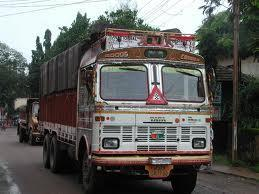truck: (38, 32, 219, 194)
